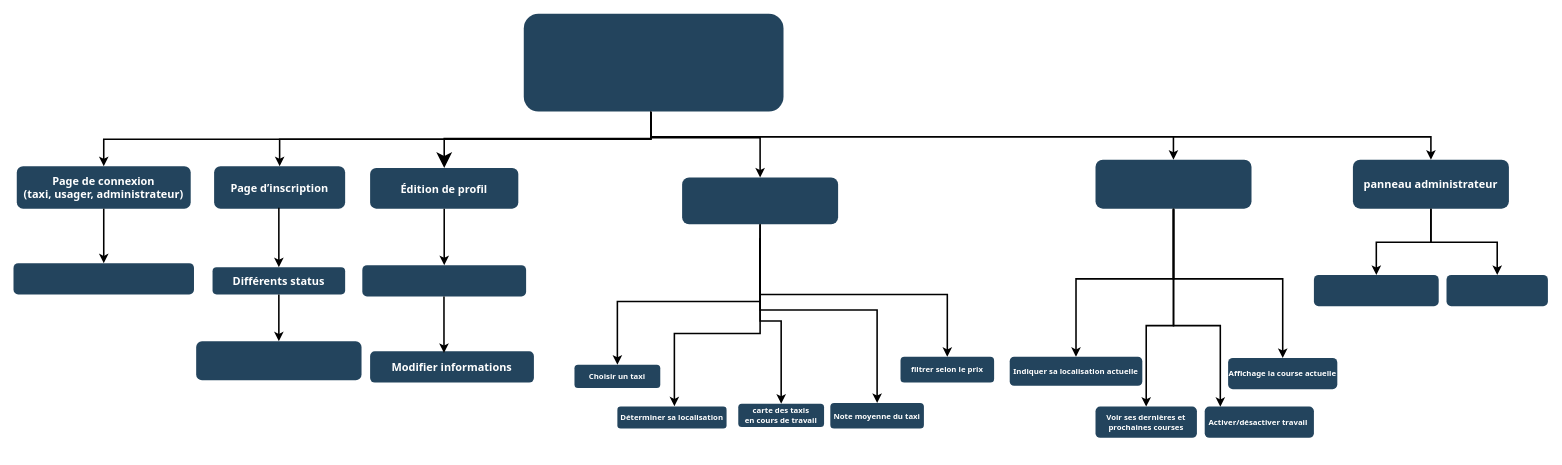
This 1562x465 diagram has some shape labels left out. Here are the shapes that lost their labels. From the top down, the centre of each, then its label:
At pixel 653 62: "Logiciel de simulation d'un service de taxi".
At pixel 760 200: "Page client".
At pixel 1173 183: "Page conducteur".
At pixel 103 278: "Affichage du nom d’utilisateur dans l’application".
At pixel 444 280: "Démission ou désinscription".
At pixel 1376 290: "Liste des utilisateurs".
At pixel 1497 290: "Liste des taxis".
At pixel 278 360: "Système de verification de connexion selon le status".
